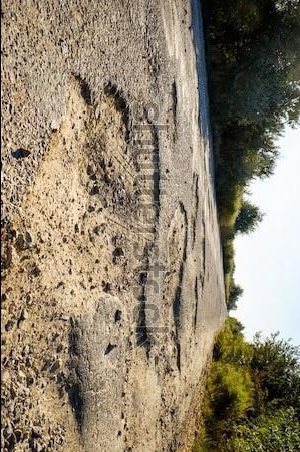pothole: (1, 68, 163, 314), (157, 200, 191, 381), (186, 213, 207, 293), (188, 171, 201, 249), (165, 78, 180, 145)
